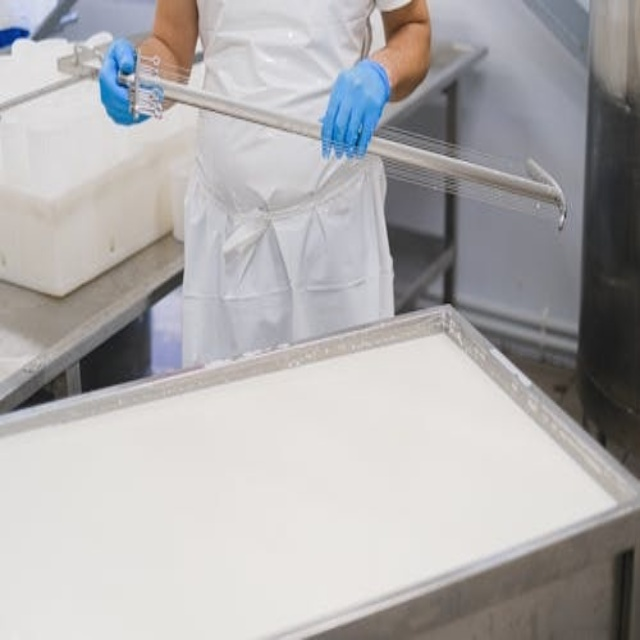Guantes: (319, 59, 390, 161), (99, 38, 158, 128)
